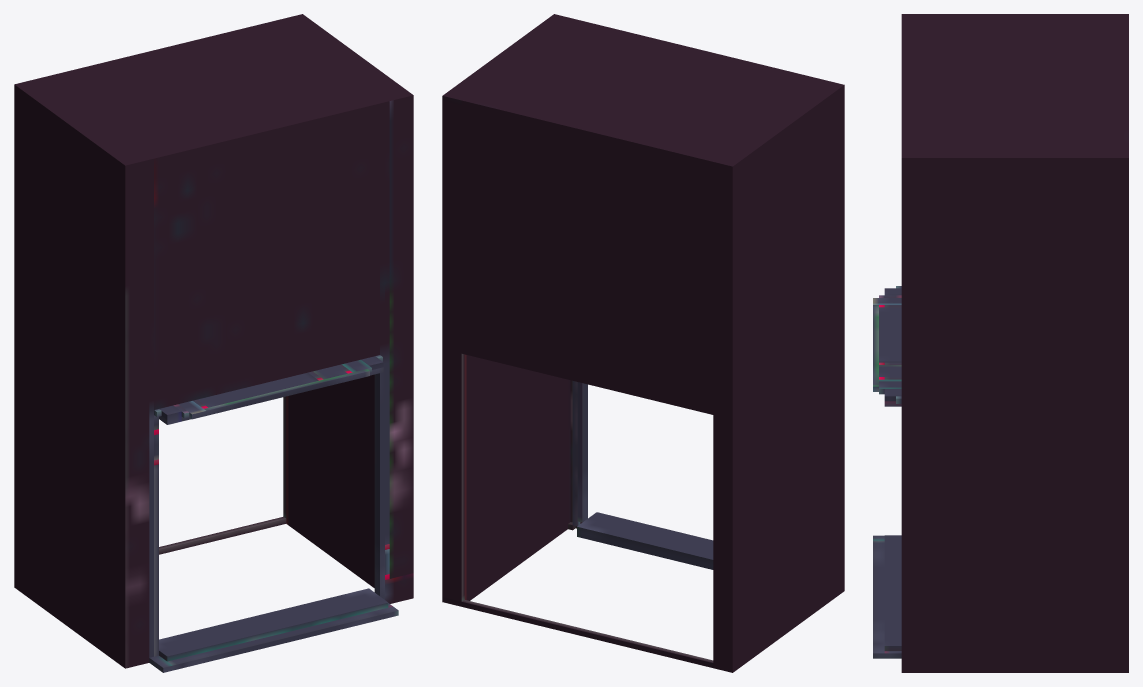
File: BuildingModule_A_00.fbx
3 renders of one model, left to right at view 1: azimuth 30°, elevation 25°; view 2: azimuth 150°, elevation 25°; view 3: azimuth 270°, elevation 25°, orthographic. The views are drawn at different scales.
Visible parts, largest first — view 1: BuildingModule_A_00; view 2: BuildingModule_A_00; view 3: BuildingModule_A_00.
Part boxes in pixels (x1=…): BuildingModule_A_00: x1=14, y1=14, x2=413, y2=672; BuildingModule_A_00: x1=442, y1=14, x2=844, y2=672; BuildingModule_A_00: x1=873, y1=14, x2=1128, y2=672.
Size of the model in its own units: 300 by 500 by 225.
